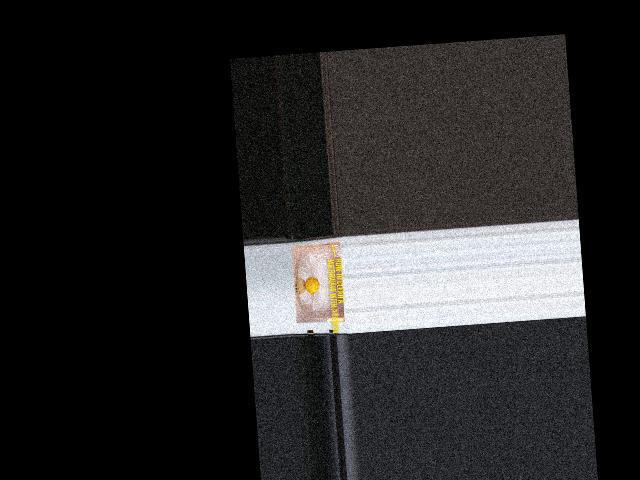lemon: (301, 275, 322, 302)
